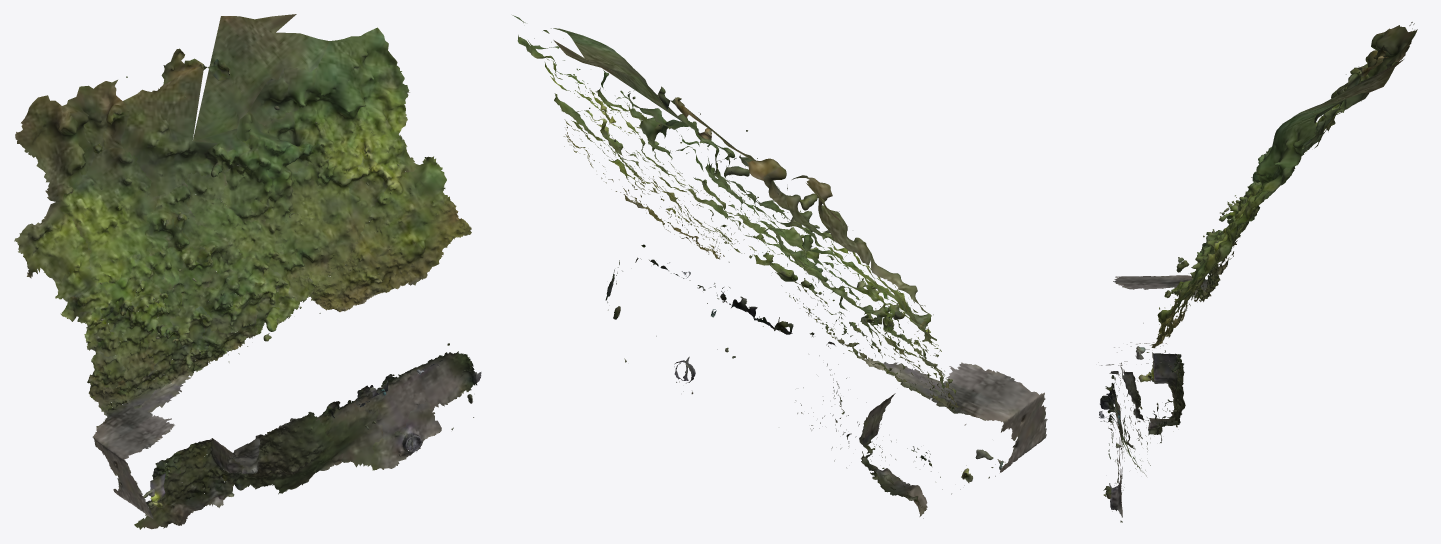
The picture shows the model from 3 angles, left to right: view 1: azimuth 30°, elevation 25°; view 2: azimuth 150°, elevation 25°; view 3: azimuth 270°, elevation 25°; orthographic projection. The views are drawn at different scales.
Size of the model in its own units: 20.08 by 20.57 by 14.1.
1 material, 1 textured.
